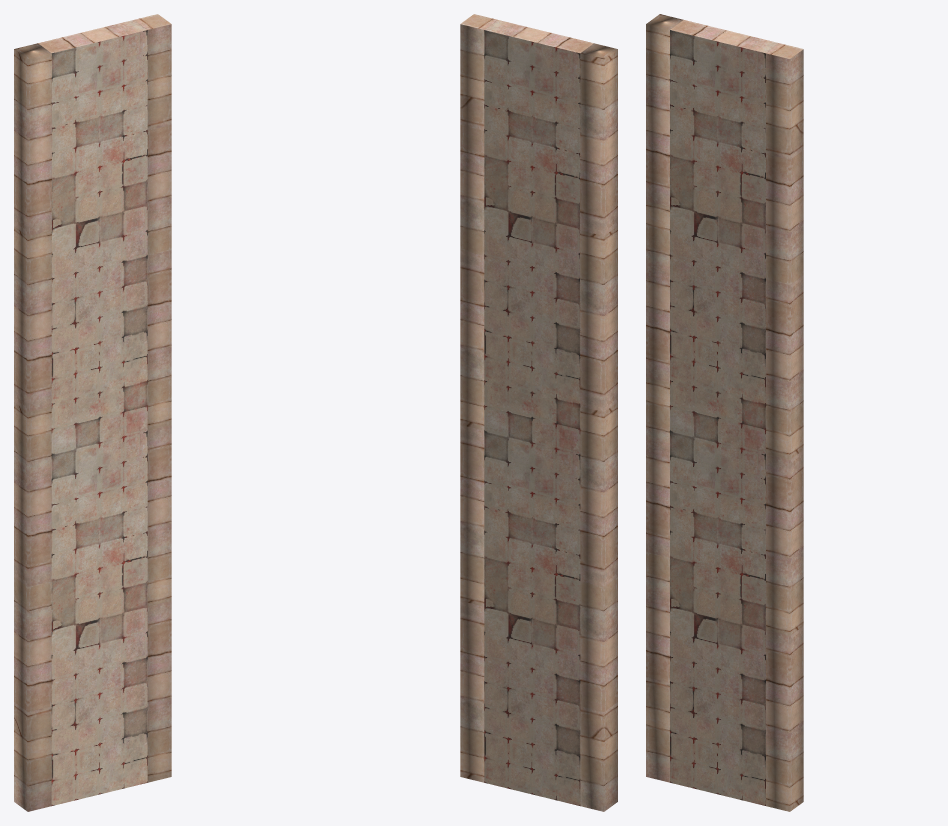
The model's file is MeganeRealStep000.obj.
3 renders of one model, left to right at view 1: azimuth 30°, elevation 25°; view 2: azimuth 150°, elevation 25°; view 3: azimuth 330°, elevation 25°, orthographic.
Visible parts, largest first — view 1: pasted__pCube4850__FloorStoneBase02, pasted__pCube4850__EdgeStoneBlock03; view 2: pasted__pCube4850__FloorStoneBase02, pasted__pCube4850__EdgeStoneBlock03; view 3: pasted__pCube4850__FloorStoneBase02, pasted__pCube4850__EdgeStoneBlock03.
Boxes of the visible parts, left/top/right/bottom form: pasted__pCube4850__FloorStoneBase02: left=51, top=30, right=147, bottom=805; pasted__pCube4850__EdgeStoneBlock03: left=14, top=14, right=171, bottom=811; pasted__pCube4850__FloorStoneBase02: left=484, top=30, right=580, bottom=805; pasted__pCube4850__EdgeStoneBlock03: left=460, top=14, right=617, bottom=811; pasted__pCube4850__FloorStoneBase02: left=670, top=30, right=765, bottom=805; pasted__pCube4850__EdgeStoneBlock03: left=646, top=14, right=803, bottom=811.
Size of the model in its own units: 1172 by 3000 by 100.
Materials: 3 (2 with a texture image).
